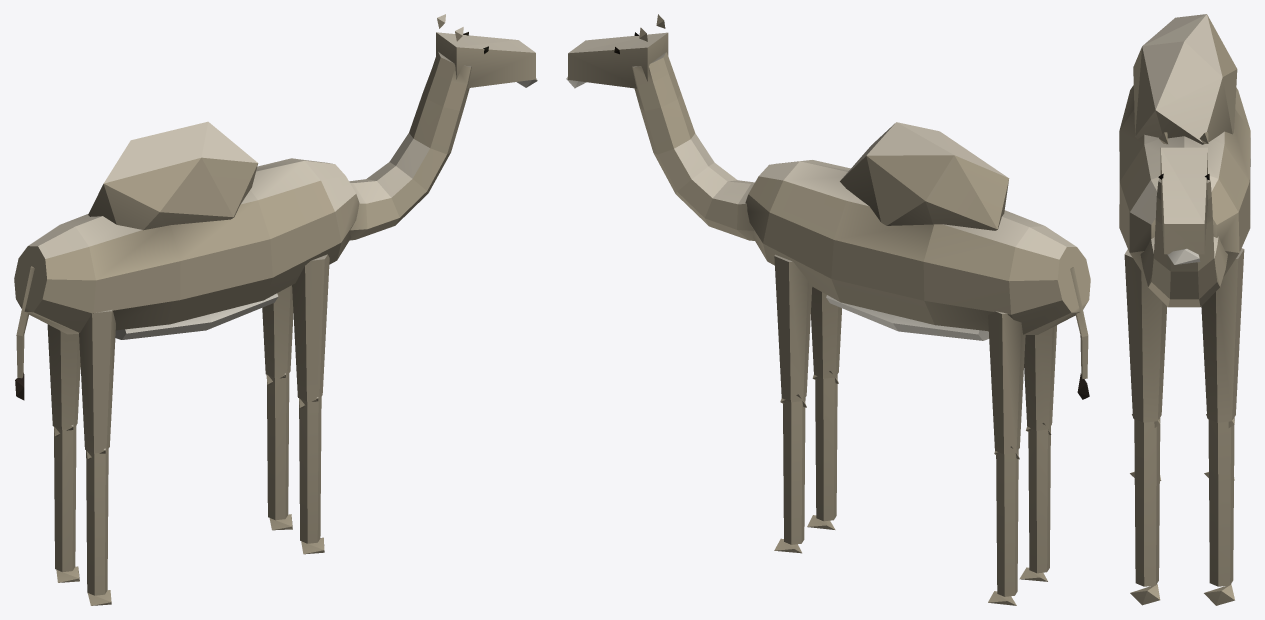
The model's file is mt_camel_white.glb.
The picture shows the model from 3 angles, left to right: view 1: azimuth 30°, elevation 25°; view 2: azimuth 150°, elevation 25°; view 3: azimuth 270°, elevation 25°; orthographic projection. The views are drawn at different scales.
Parts seen in each view (by area): view 1: base, head_m, leg3_m, leg1_m, leg2_m, leg0_m, tail_m; view 2: base, head_m, leg2_m, leg0_m, leg3_m, leg1_m, tail_m; view 3: base, head_m, leg0_m, leg1_m.
Part boxes in pixels (x1,y1,x2,y2): base: (14,121,359,339); head_m: (349,14,537,240); leg3_m: (79,309,115,605); leg1_m: (292,254,329,554); leg2_m: (47,324,80,582); leg0_m: (262,285,293,530); tail_m: (15,266,34,400); base: (745,122,1090,340); head_m: (566,14,754,240); leg2_m: (988,311,1025,605); leg0_m: (774,254,812,553); leg3_m: (1019,325,1056,581); leg1_m: (807,287,841,529); tail_m: (1070,267,1089,399); base: (1119,14,1250,277); head_m: (1140,132,1227,307); leg0_m: (1201,248,1244,605); leg1_m: (1124,249,1167,605).
Size of the model in its own units: 1.02 by 0.911 by 0.1945.
